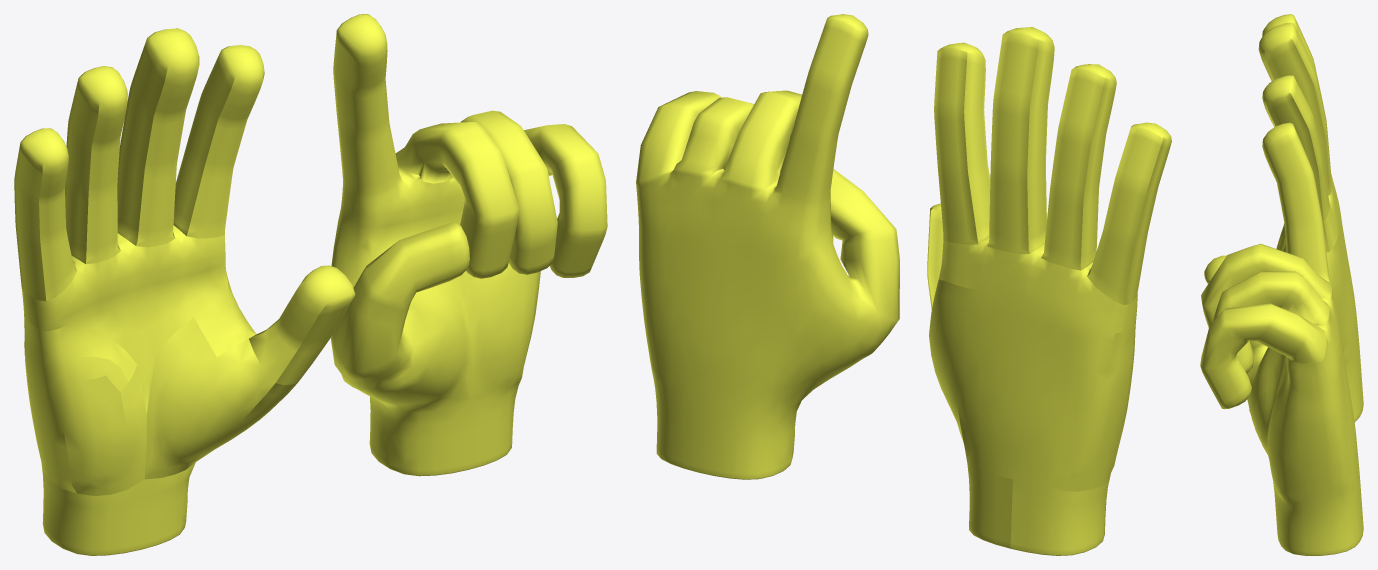
3 renders of one model, left to right at view 1: azimuth 30°, elevation 25°; view 2: azimuth 150°, elevation 25°; view 3: azimuth 270°, elevation 25°, orthographic. The views are drawn at different scales.
Parts seen in each view (by area): view 1: uploads_files_810024_Hand.001, uploads_files_810024_Hand; view 2: uploads_files_810024_Hand.001, uploads_files_810024_Hand; view 3: uploads_files_810024_Hand, uploads_files_810024_Hand.001.
Boxes of the visible parts, left/top/right/bottom form: uploads_files_810024_Hand.001: left=14, top=28, right=355, bottom=555; uploads_files_810024_Hand: left=330, top=14, right=607, bottom=476; uploads_files_810024_Hand.001: left=927, top=27, right=1171, bottom=555; uploads_files_810024_Hand: left=636, top=14, right=899, bottom=479; uploads_files_810024_Hand: left=1200, top=122, right=1363, bottom=555; uploads_files_810024_Hand.001: left=1204, top=14, right=1363, bottom=421.
Size of the model in its own units: 3.19 by 2.84 by 1.06.
